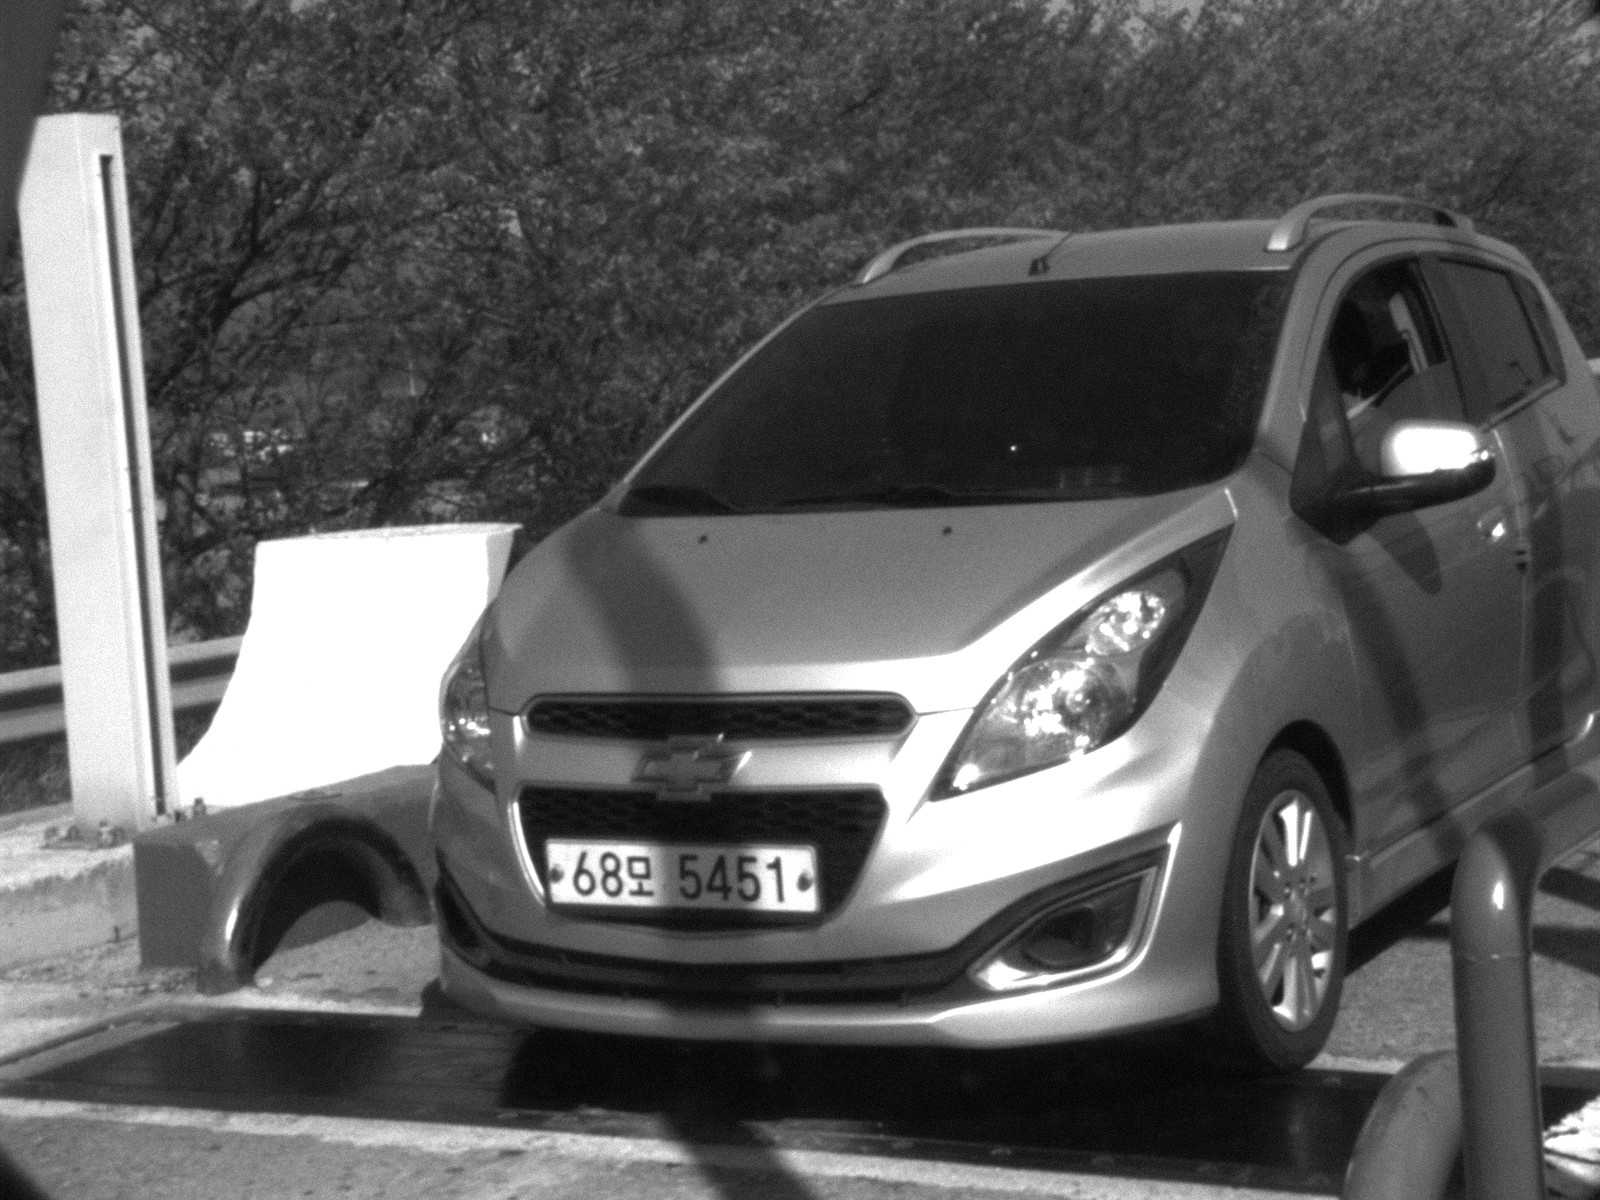car: (419, 190, 1600, 1082)
plate: (540, 837, 822, 917)
